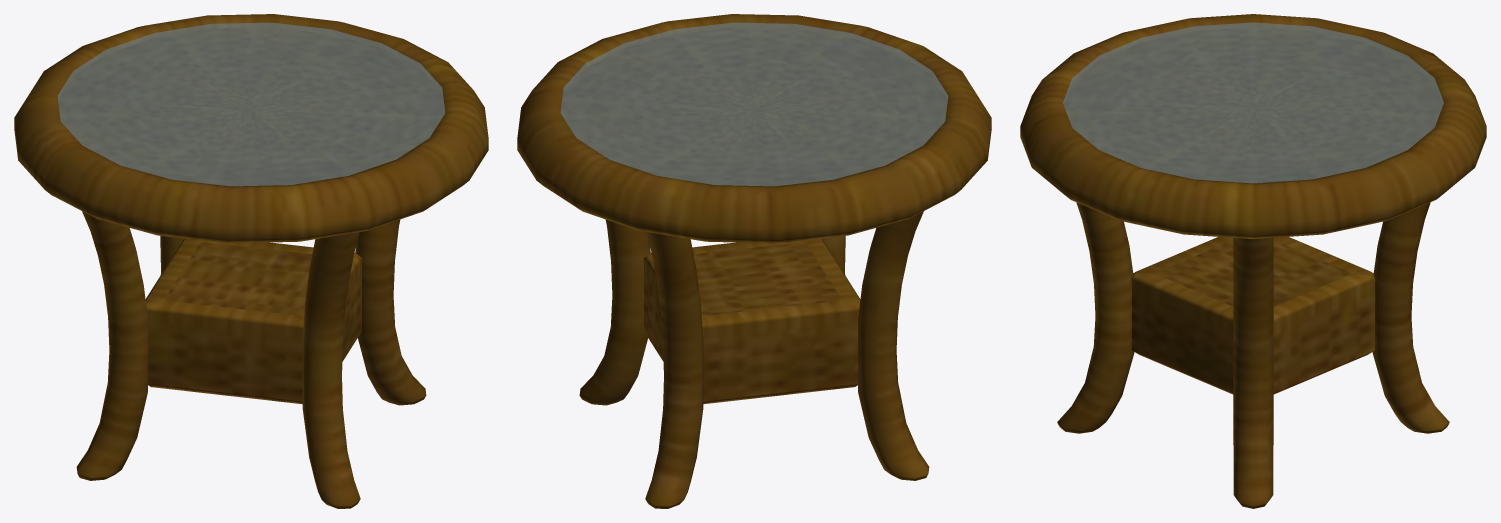
3 renders of one model, left to right at view 1: azimuth 30°, elevation 25°; view 2: azimuth 150°, elevation 25°; view 3: azimuth 270°, elevation 25°, orthographic. The views are drawn at different scales.
Bounding box in the file's own units: 9.42 × 7.26 × 9.42.
2 materials, 1 textured.
